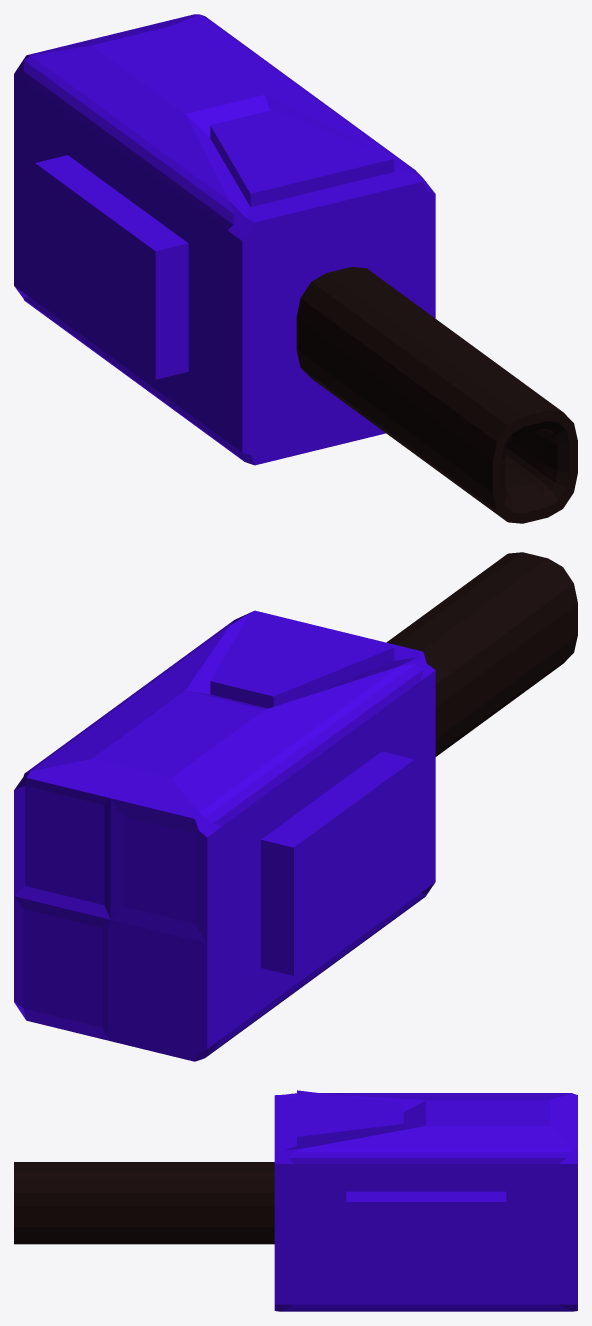
File: weapon.glb
3 renders of one model, top to bottom at view 1: azimuth 30°, elevation 25°; view 2: azimuth 150°, elevation 25°; view 3: azimuth 270°, elevation 25°, orthographic. The views are drawn at different scales.
Visible parts, largest first — view 1: Cube; view 2: Cube; view 3: Cube.
Part boxes in pixels (x1,y1,x2,y2): Cube: (14,14,577,523); Cube: (14,552,577,1061); Cube: (14,1090,577,1311).
Bounding box in the file's own units: 0.7 × 0.7 × 2.
